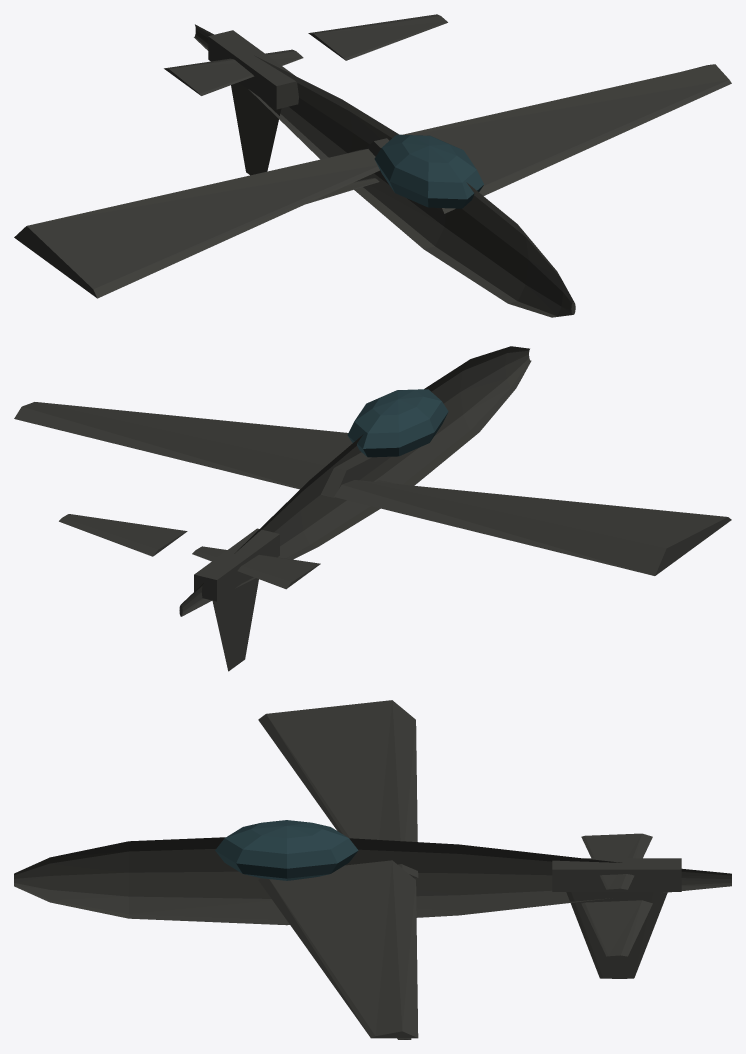
Rendered from bf109_Destroyed.glb.
The picture shows the model from 3 angles, top to bottom: view 1: azimuth 30°, elevation 25°; view 2: azimuth 150°, elevation 25°; view 3: azimuth 270°, elevation 25°; orthographic projection. The views are drawn at different scales.
Visible parts, largest first — view 1: Wing_L, Fuselage, Wing_R, Cockpit, TailBoom, Elevator_R, Rudder, Elevator_L; view 2: Wing_L, Wing_R, Fuselage, Cockpit, TailBoom, Rudder, Elevator_R, Elevator_L; view 3: Fuselage, Wing_R, Wing_L, Cockpit, TailBoom, Rudder, Elevator_R, Elevator_L.
Boxes of the visible parts, x1=… form: Wing_L: x1=14, y1=149, x2=379, y2=298; Fuselage: x1=194, y1=24, x2=575, y2=317; Wing_R: x1=365, y1=64, x2=731, y2=213; Cockpit: x1=374, y1=134, x2=483, y2=208; TailBoom: x1=208, y1=30, x2=298, y2=109; Elevator_R: x1=308, y1=14, x2=447, y2=60; Rudder: x1=231, y1=82, x2=281, y2=175; Elevator_L: x1=164, y1=49, x2=303, y2=95; Wing_L: x1=334, y1=480, x2=731, y2=575; Wing_R: x1=14, y1=402, x2=391, y2=497; Fuselage: x1=179, y1=346, x2=531, y2=616; Cockpit: x1=347, y1=389, x2=448, y2=457; TailBoom: x1=194, y1=528, x2=279, y2=601; Rudder: x1=212, y1=576, x2=258, y2=671; Elevator_R: x1=59, y1=514, x2=187, y2=556; Elevator_L: x1=192, y1=546, x2=320, y2=589; Fuselage: x1=14, y1=837, x2=731, y2=925; Wing_R: x1=258, y1=860, x2=418, y2=1038; Wing_L: x1=258, y1=700, x2=418, y2=877; Cockpit: x1=215, y1=820, x2=358, y2=880; TailBoom: x1=552, y1=858, x2=681, y2=891; Rudder: x1=566, y1=892, x2=667, y2=978; Elevator_R: x1=581, y1=900, x2=652, y2=956; Elevator_L: x1=581, y1=833, x2=652, y2=889.
Size of the model in its own units: 9.5 by 2.11 by 9.
